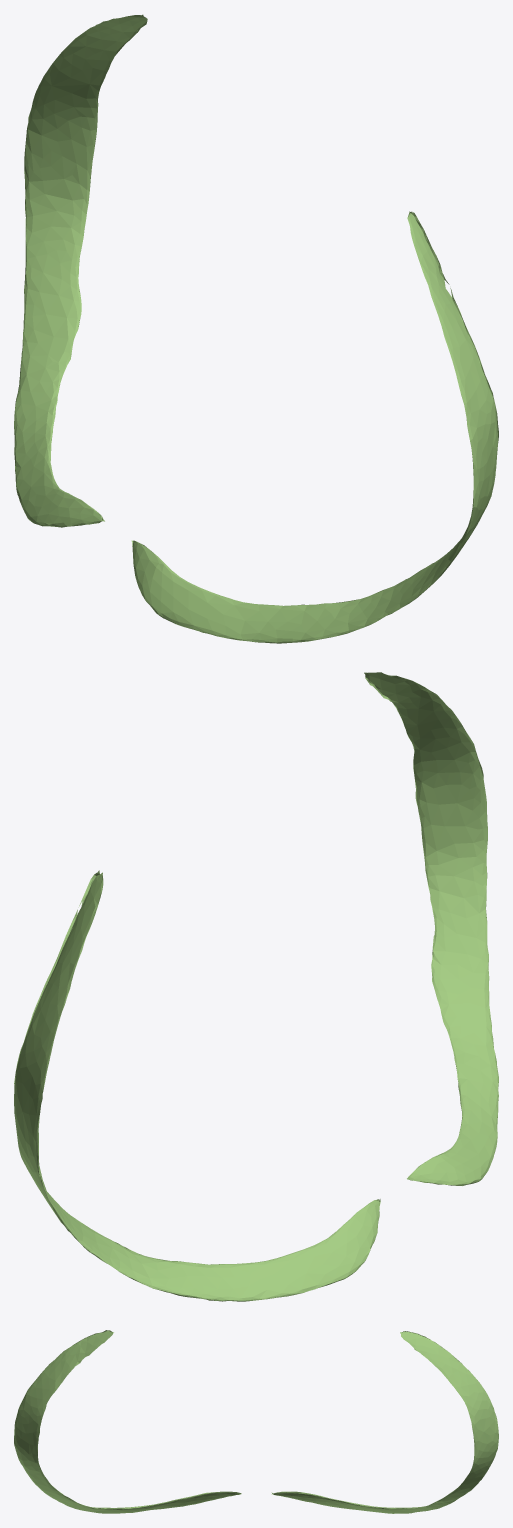
3 views of the same model, one above another, from view 1: azimuth 30°, elevation 25°; view 2: azimuth 150°, elevation 25°; view 3: azimuth 270°, elevation 25° (orthographic). The views are drawn at different scales.
Parts seen in each view (by area): view 1: 423.obj; view 2: 423.obj; view 3: 423.obj.
Part boxes in pixels (bbox=[...]): 423.obj: bbox=[14, 14, 498, 643]; 423.obj: bbox=[14, 672, 498, 1301]; 423.obj: bbox=[14, 1330, 498, 1513].
Size of the model in its own units: 2023 by 3916 by 7731.
